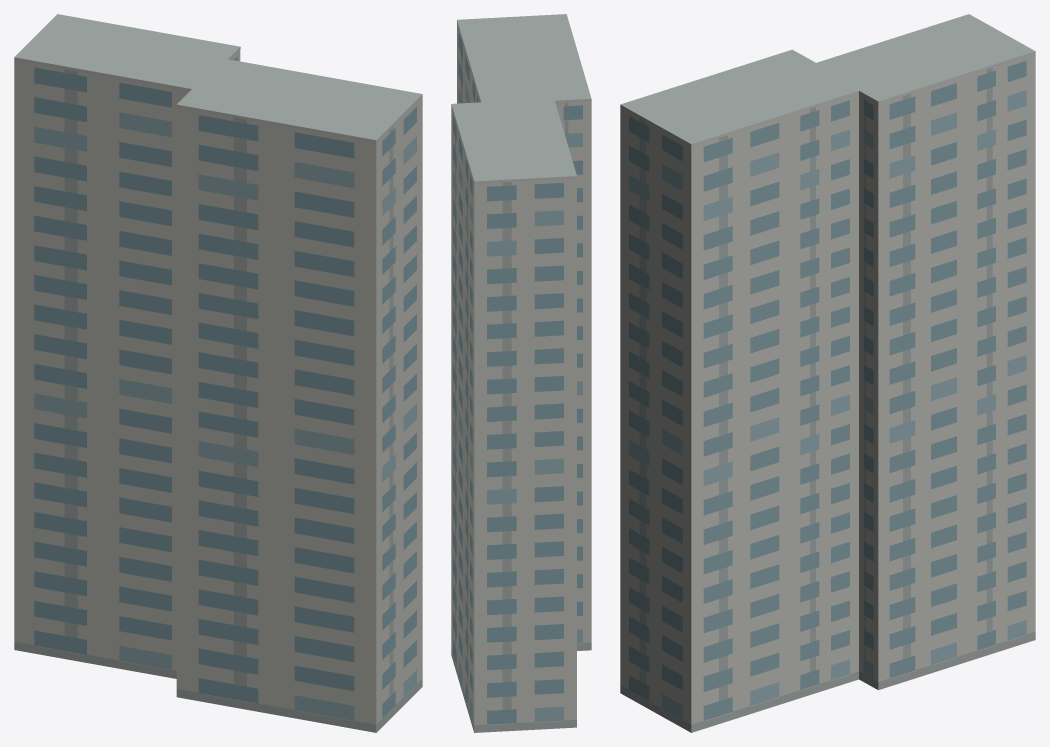
Rendered from residential-3fa020e1-5fa5-4a11-a04c-006c1c7d26e9.glb.
3 views of the same model, side by side, from view 1: azimuth 30°, elevation 25°; view 2: azimuth 150°, elevation 25°; view 3: azimuth 270°, elevation 25° (orthographic). The views are drawn at different scales.
Parts seen in each view (by area): view 1: residential-3fa020e1-5fa5-4a11-a04c-006c1c7d26e9.tmp; view 2: residential-3fa020e1-5fa5-4a11-a04c-006c1c7d26e9.tmp; view 3: residential-3fa020e1-5fa5-4a11-a04c-006c1c7d26e9.tmp.
Part boxes in pixels (x1,y1,x2,y2): residential-3fa020e1-5fa5-4a11-a04c-006c1c7d26e9.tmp: [14, 14, 422, 732]; residential-3fa020e1-5fa5-4a11-a04c-006c1c7d26e9.tmp: [451, 14, 591, 732]; residential-3fa020e1-5fa5-4a11-a04c-006c1c7d26e9.tmp: [620, 14, 1035, 732].
Size of the model in its own units: 26.11 by 55 by 35.19.
